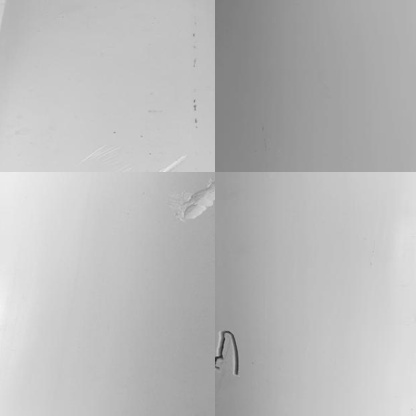fengxi: (214, 326, 241, 379)
sunshang: (178, 183, 210, 221), (160, 154, 186, 175)
